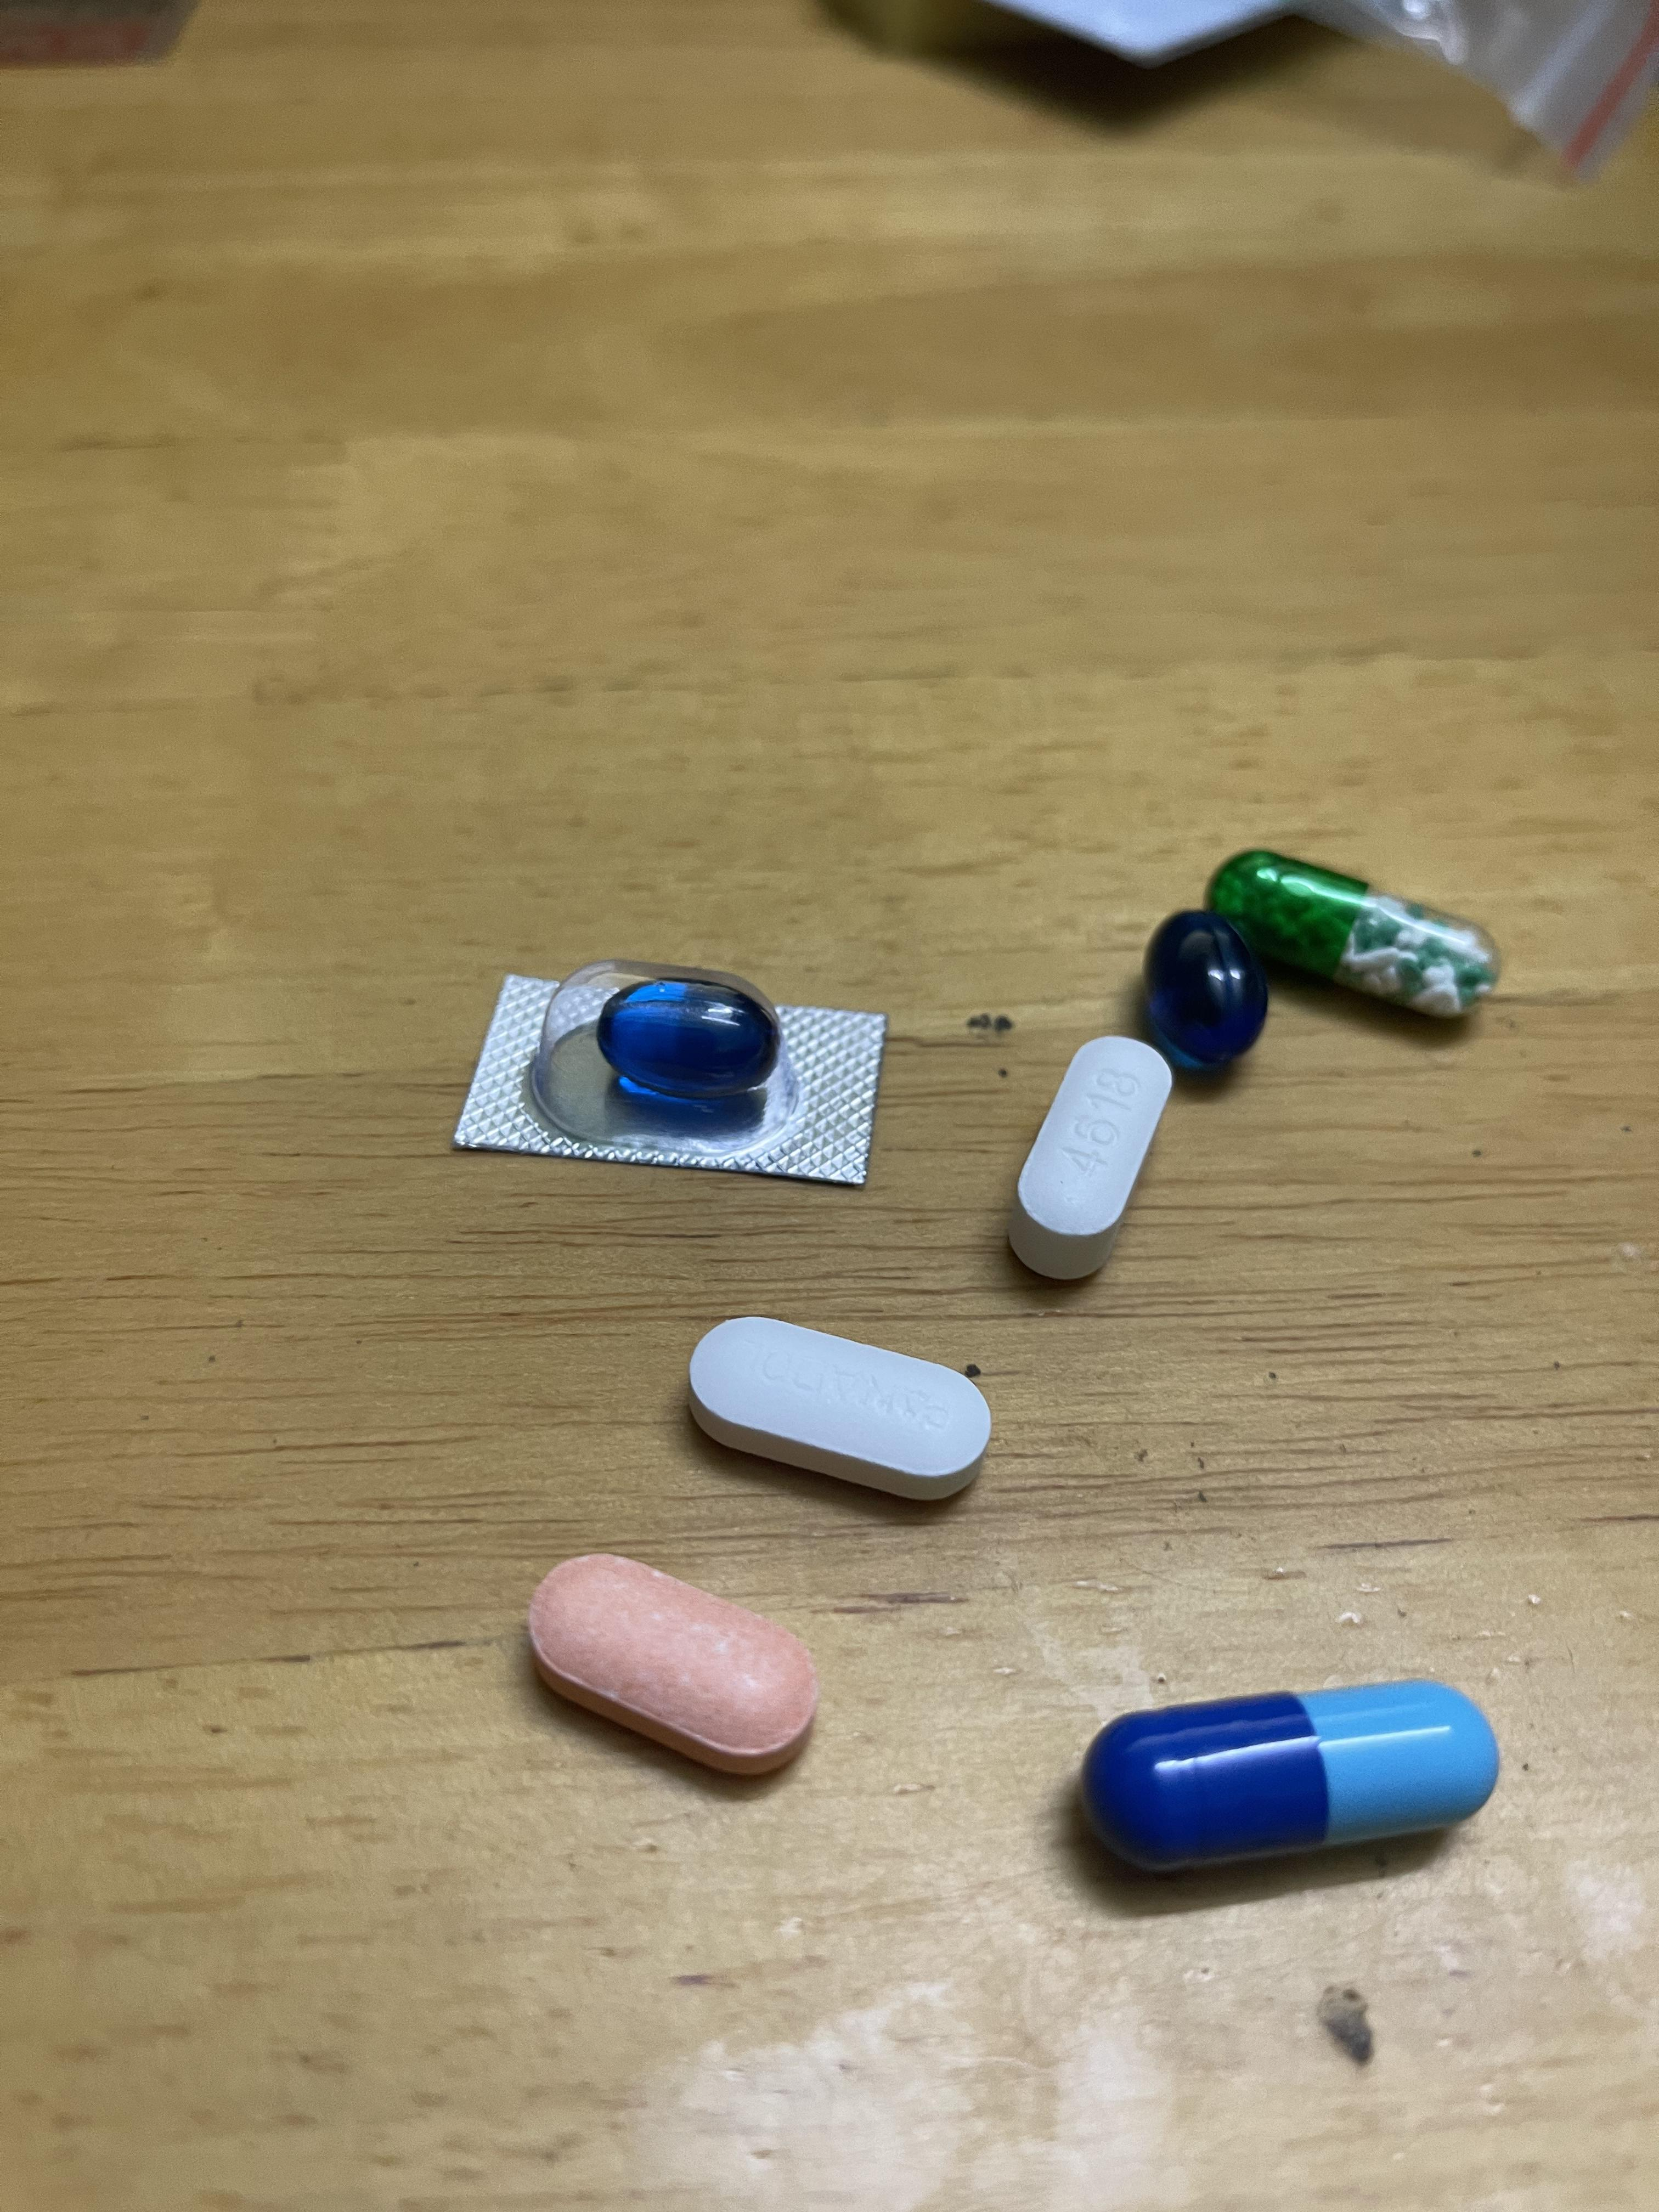Lincomyxin_500mg: (596, 970, 786, 1099), (1143, 907, 1272, 1073)
Loratadine_10mg: (528, 1545, 817, 1778)
Paracetamol_350mg: (1007, 1033, 1173, 1278)
Paracetamol_500mg: (692, 1315, 985, 1489)
Paracetamol_650mg: (1213, 855, 1488, 1014)
pill: (1079, 1676, 1502, 1850)
